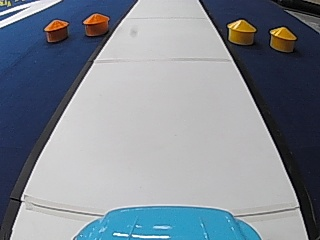granary: (225, 17, 257, 45), (267, 24, 298, 52), (42, 16, 69, 42), (81, 11, 109, 36)
